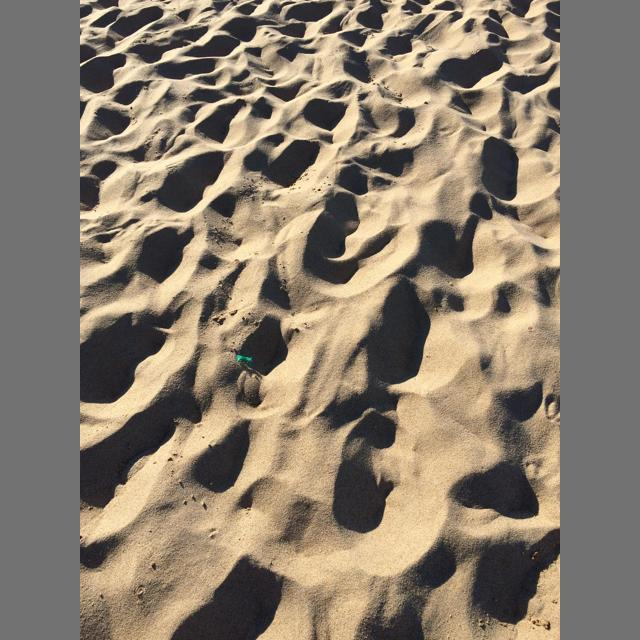litter: (237, 355, 252, 364)
